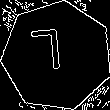L_S: (39, 29, 74, 83)
